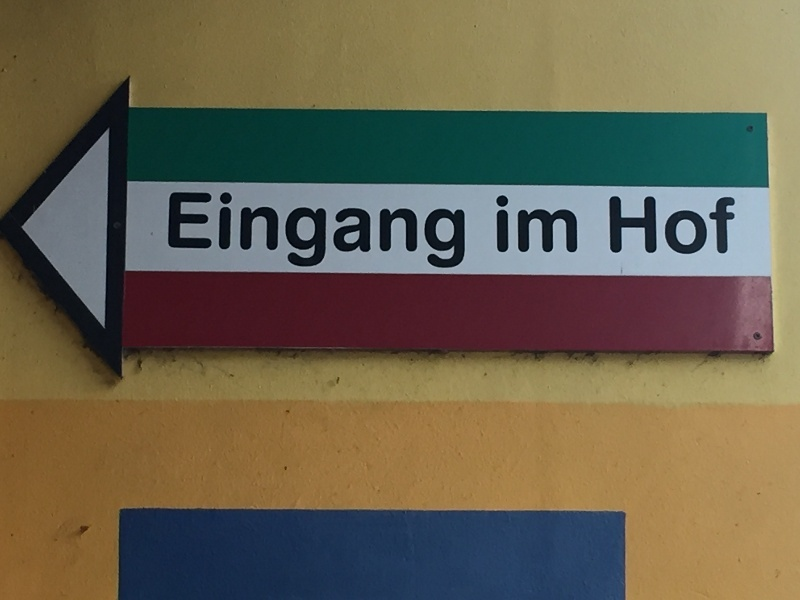text: (177, 193, 192, 269), (193, 193, 208, 269), (209, 193, 224, 269), (225, 193, 240, 269), (241, 193, 256, 269), (257, 193, 272, 269), (273, 193, 288, 269), (289, 193, 304, 269), (305, 193, 320, 269), (321, 193, 336, 269), (337, 193, 352, 269), (353, 193, 368, 269), (369, 193, 384, 269), (385, 193, 400, 269), (401, 193, 416, 269), (417, 193, 432, 269), (433, 193, 448, 269), (449, 193, 464, 269), (497, 196, 512, 253), (513, 196, 528, 253), (529, 196, 544, 253), (545, 196, 560, 253), (561, 196, 576, 253), (609, 197, 624, 254), (625, 197, 640, 254), (641, 197, 656, 254), (657, 197, 672, 254), (673, 197, 688, 254), (689, 197, 704, 254), (705, 197, 720, 254), (721, 197, 736, 254), (170, 193, 176, 269), (577, 196, 579, 253), (465, 193, 466, 269), (495, 196, 496, 253)
